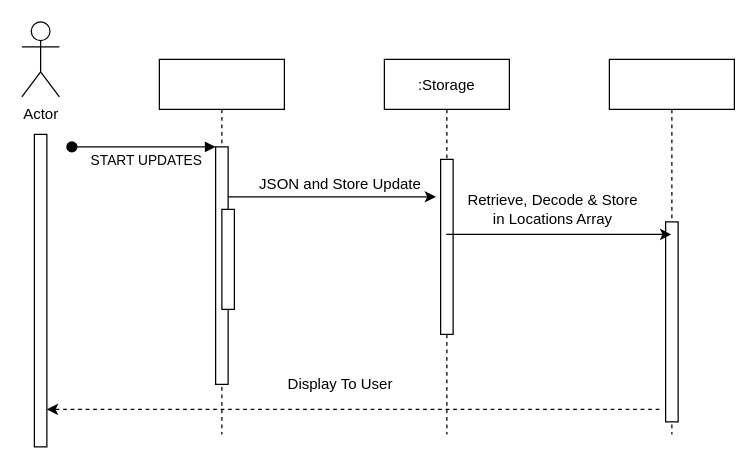
Some shapes in this 756 by 469 pixel diagram are drawn without their labels. The shapes that lost their labels are listed below. From the top down, each one's box as (x1, y1, x2, y2) in pixels, then its label:
(158, 58, 284, 434): :Geolocation Object
(608, 58, 734, 434): :Table View
